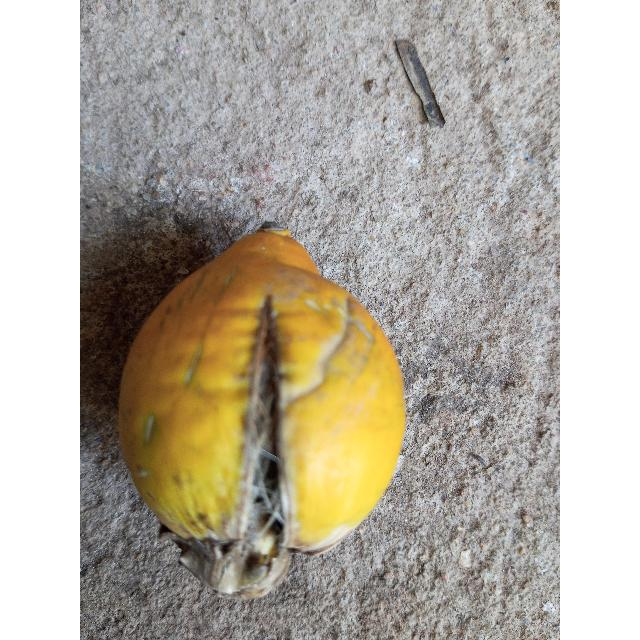damaged: (119, 221, 405, 598)
